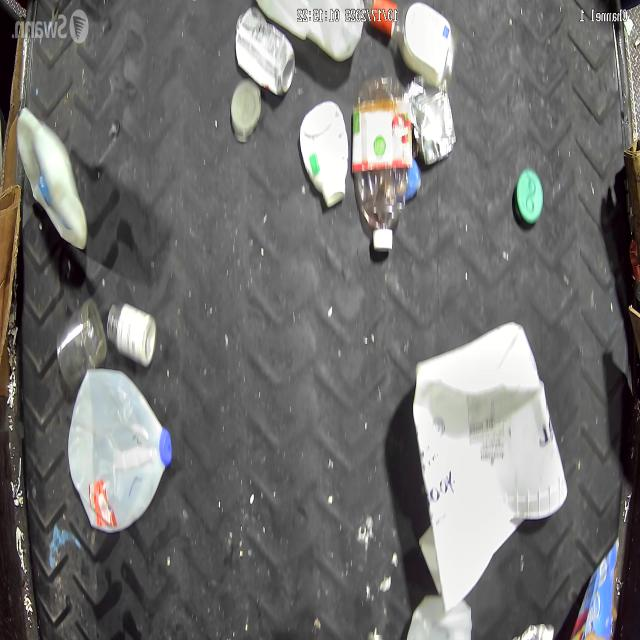can: (236, 7, 296, 95), (409, 83, 456, 170)
milk_jug: (68, 368, 172, 534), (16, 106, 86, 246)
plastic_bottle: (351, 74, 408, 253)
